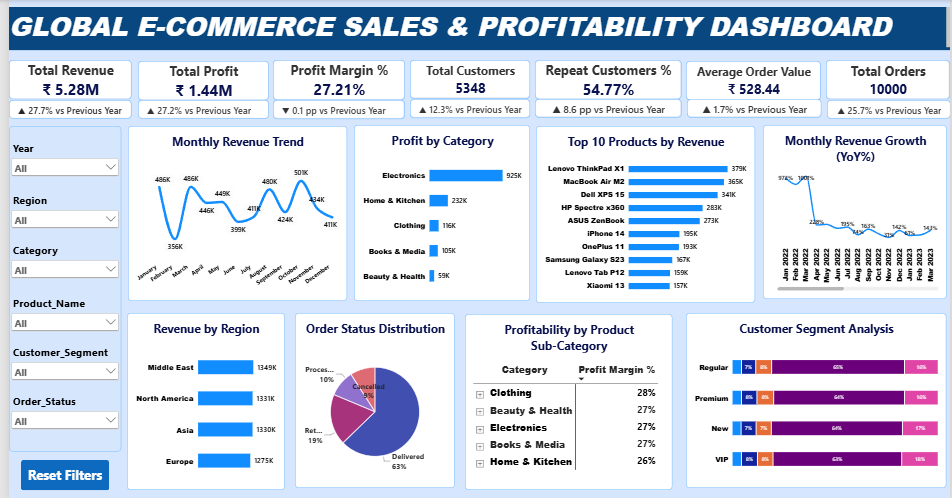

The dashboard page shown, as its layout file describes it:
{"tool":"powerbi","page":{"name":"Page 4","canvas":[1920,1020],"ordinal":4},"visuals":[{"type":"lineChart","title":"Monthly Revenue Trend","fields":{"Category":["dim_date.Month Name"],"Y":["fact_sales.Total Revenue"]},"box":[252.7,257,447.1,356.4],"z":0},{"type":"cardVisual","fields":{"Data":["fact_sales.Total Revenue"]},"box":[0,116.6,252.7,118.8],"z":1000},{"type":"textbox","box":[0,15.1,1920.2,86.4],"z":2000},{"type":"clusteredBarChart","title":"Profit by Category","fields":{"Category":["dim_product.Category"],"Y":["fact_sales.Total Profit"]},"box":[725.8,254.9,375.8,358.6],"z":3000},{"type":"cardVisual","fields":{"Data":["fact_sales.Total Profit"]},"box":[270,116.6,233.3,118.8],"z":4000},{"type":"shape","box":[0,257,229,622.1],"z":5000},{"type":"barChart","title":"Revenue by Region","fields":{"Category":["dim_location.Region"],"Y":["fact_sales.Total Revenue"]},"box":[1101.6,639.4,371.5,358.6],"z":6000},{"type":"cardVisual","fields":{"Data":["fact_sales.Total Orders"]},"box":[518.4,121,224.6,116.6],"z":7000},{"type":"hundredPercentStackedBarChart","title":"Customer Segment Analysis","fields":{"Category":["dim_Customer.Customer_Segment"],"Series":["dim_product.Category"],"Y":["fact_sales.Total Revenue"]},"box":[1129.7,257,375.8,356.4],"z":8000},{"type":"cardVisual","fields":{"Data":["fact_sales.Profit Margin %"]},"box":[758.9,118.3,228.5,118.3],"z":9000},{"type":"clusteredBarChart","title":"Top 10 Product by Revenue","fields":{"Category":["dim_product.Product_Name"],"Y":["fact_sales.Total Revenue"]},"box":[252.7,637.2,447.1,360.7],"z":10000},{"type":"cardVisual","fields":{"Data":["fact_sales.Average Order Value"]},"box":[1003.7,118.3,300.2,118.8],"z":11000},{"type":"donutChart","title":"Payment Method Analysis","fields":{"Category":["fact_sales.Payment_Method"],"Y":["fact_sales.Total Orders"]},"box":[734.4,635,321.8,360.7],"z":12000},{"type":"cardVisual","fields":{"Data":["fact_sales.Total Customers"]},"box":[1348.4,118.3,263.2,118.3],"z":13000},{"type":"cardVisual","fields":{"Data":["fact_sales.Revenue YTD"]},"box":[1646.3,120.4,240.7,118.3],"z":14000},{"type":"pieChart","title":"Revenue by Season","fields":{"Category":["fact_sales.Season"],"Y":["fact_sales.Total Revenue"]},"box":[1529.3,257,375.8,360.7],"z":15000},{"type":"pivotTable","title":"Product Profitability Heatmap","fields":{"Rows":["dim_product.Category","dim_product.Sub_Category"],"Values":["fact_sales.Profit Margin","fact_sales.Total Profit"]},"box":[1514.2,639.4,373.7,358.6],"z":16000},{"type":"group","id":"g1","title":"Group 1","box":[0,279.6,228.5,581.4],"z":17000},{"type":"slicer","fields":{"Values":["dim_date.Year"]},"box":[0,279.6,229.3,82.4],"z":18000,"group":"g1"},{"type":"actionButton","box":[28.9,896,138.3,99.1],"z":18000},{"type":"slicer","fields":{"Values":["dim_location.Region"]},"box":[0,370.3,229,82.1],"z":19000,"group":"g1"},{"type":"slicer","fields":{"Values":["dim_product.Category"]},"box":[0,469.7,229,82.1],"z":20000,"group":"g1"},{"type":"slicer","fields":{"Values":["dim_Customer.Customer_Segment"]},"box":[0,672.7,229,82.1],"z":21000,"group":"g1"},{"type":"slicer","fields":{"Values":["Dim_OrderStatus.Order_Status"]},"box":[0,778.6,229,82.1],"z":22000,"group":"g1"},{"type":"slicer","fields":{"Values":["dim_product.Product_Name"]},"box":[0,573.4,229,82.1],"z":23000,"group":"g1"}]}

Visuals, with their boxes in screenshot pixels (x1, y1, x2, y2), scaled from the page's 1920x1020 canvas onto the 952x498 screenshot:
"Monthly Revenue Trend" lineChart: <bbox>125, 125, 347, 299</bbox>
cardVisual - fact_sales.Total Revenue: <bbox>0, 57, 125, 115</bbox>
textbox: <bbox>0, 7, 951, 50</bbox>
"Profit by Category" clusteredBarChart: <bbox>360, 124, 546, 300</bbox>
cardVisual - fact_sales.Total Profit: <bbox>134, 57, 250, 115</bbox>
shape: <bbox>0, 125, 114, 429</bbox>
"Revenue by Region" barChart: <bbox>546, 312, 730, 487</bbox>
cardVisual - fact_sales.Total Orders: <bbox>257, 59, 368, 116</bbox>
"Customer Segment Analysis" hundredPercentStackedBarChart: <bbox>560, 125, 746, 299</bbox>
cardVisual - fact_sales.Profit Margin %: <bbox>376, 58, 490, 116</bbox>
"Top 10 Product by Revenue" clusteredBarChart: <bbox>125, 311, 347, 487</bbox>
cardVisual - fact_sales.Average Order Value: <bbox>498, 58, 647, 116</bbox>
"Payment Method Analysis" donutChart: <bbox>364, 310, 524, 486</bbox>
cardVisual - fact_sales.Total Customers: <bbox>669, 58, 799, 116</bbox>
cardVisual - fact_sales.Revenue YTD: <bbox>816, 59, 936, 117</bbox>
"Revenue by Season" pieChart: <bbox>758, 125, 945, 302</bbox>
"Product Profitability Heatmap" pivotTable: <bbox>751, 312, 936, 487</bbox>
"Group 1" group: <bbox>0, 137, 113, 420</bbox>
slicer - dim_date.Year: <bbox>0, 137, 114, 177</bbox>
actionButton: <bbox>14, 437, 83, 486</bbox>
slicer - dim_location.Region: <bbox>0, 181, 114, 221</bbox>
slicer - dim_product.Category: <bbox>0, 229, 114, 269</bbox>
slicer - dim_Customer.Customer_Segment: <bbox>0, 328, 114, 369</bbox>
slicer - Dim_OrderStatus.Order_Status: <bbox>0, 380, 114, 420</bbox>
slicer - dim_product.Product_Name: <bbox>0, 280, 114, 320</bbox>
